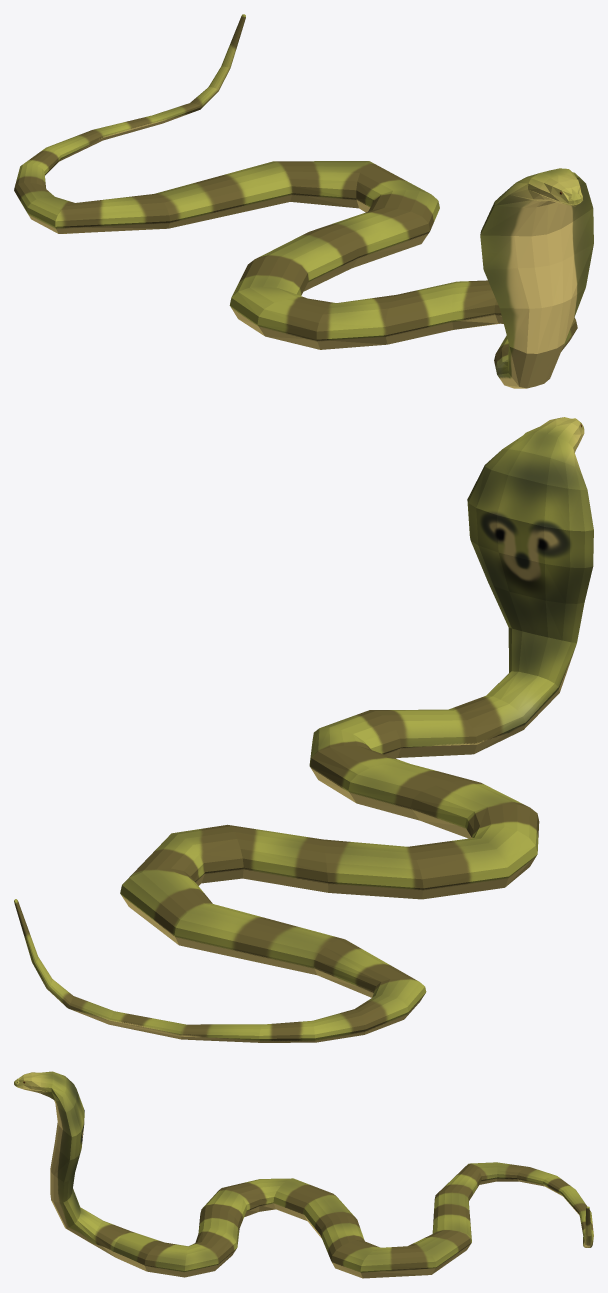
The model's file is Cobra.glb.
3 views of the same model, one above another, from view 1: azimuth 30°, elevation 25°; view 2: azimuth 150°, elevation 25°; view 3: azimuth 270°, elevation 25° (orthographic). The views are drawn at different scales.
Parts seen in each view (by area): view 1: Node; view 2: Node; view 3: Node.
Part boxes in pixels (left/top/right/bottom): Node: left=14, top=14, right=593, bottom=388; Node: left=14, top=417, right=593, bottom=1042; Node: left=14, top=1071, right=593, bottom=1278.
Size of the model in its own units: 7.22 by 5.5 by 16.82.
3 materials, 1 textured.
